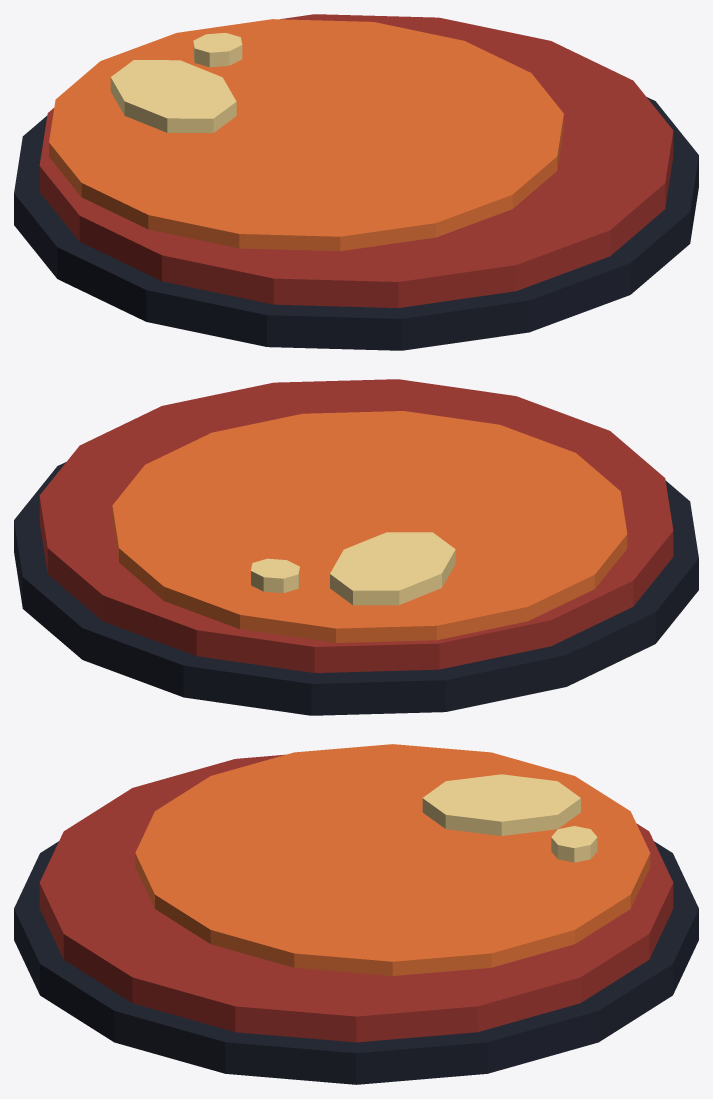
Rendered from lava_orb.fbx.
3 renders of one model, top to bottom at view 1: azimuth 30°, elevation 25°; view 2: azimuth 150°, elevation 25°; view 3: azimuth 270°, elevation 25°, orthographic.
Visible parts, largest first — view 1: lava_orb; view 2: lava_orb; view 3: lava_orb.
Part boxes in pixels (bbox=[...]): lava_orb: bbox=[14, 14, 698, 350]; lava_orb: bbox=[14, 379, 698, 715]; lava_orb: bbox=[14, 744, 698, 1084].
Bounding box in the file's own units: 1.08 × 0.155 × 1.08.
1 material, 1 textured.
